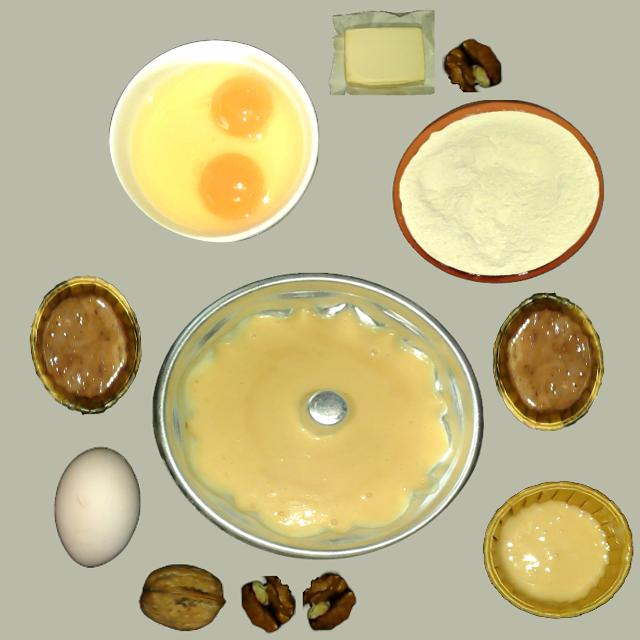Egg: (198, 153, 265, 220), (210, 76, 273, 139)
Flour: (395, 108, 602, 278)
Walnut: (139, 564, 224, 632)
